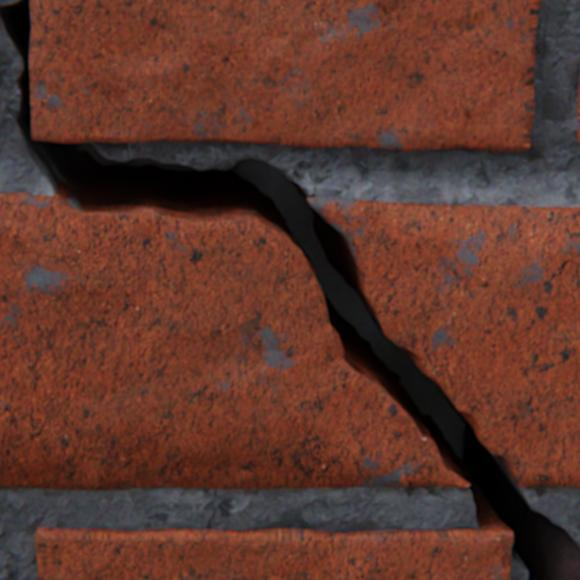brick: (30, 0, 539, 151), (35, 526, 512, 579), (575, 65, 579, 142), (567, 554, 579, 579)
broken_brick: (0, 193, 469, 488), (308, 196, 579, 487)
crack: (0, 0, 579, 579)
